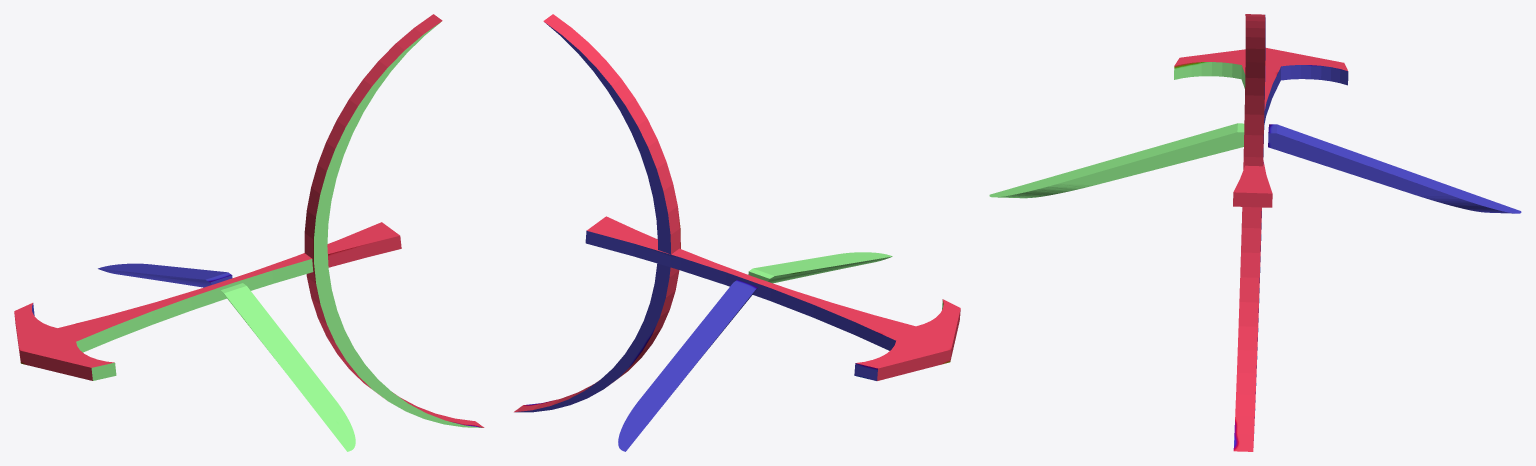
File: arrow23.fbx
3 views of the same model, side by side, from view 1: azimuth 30°, elevation 25°; view 2: azimuth 150°, elevation 25°; view 3: azimuth 270°, elevation 25° (orthographic). The views are drawn at different scales.
Parts seen in each view (by area): view 1: arrow2; view 2: arrow2; view 3: arrow2.
Part boxes in pixels (bbox=[...]): arrow2: bbox=[14, 14, 484, 451]; arrow2: bbox=[514, 14, 960, 451]; arrow2: bbox=[989, 14, 1521, 451].
Size of the model in its own units: 27.59 by 24.09 by 27.68.
Materials: 1 (1 with a texture image).
